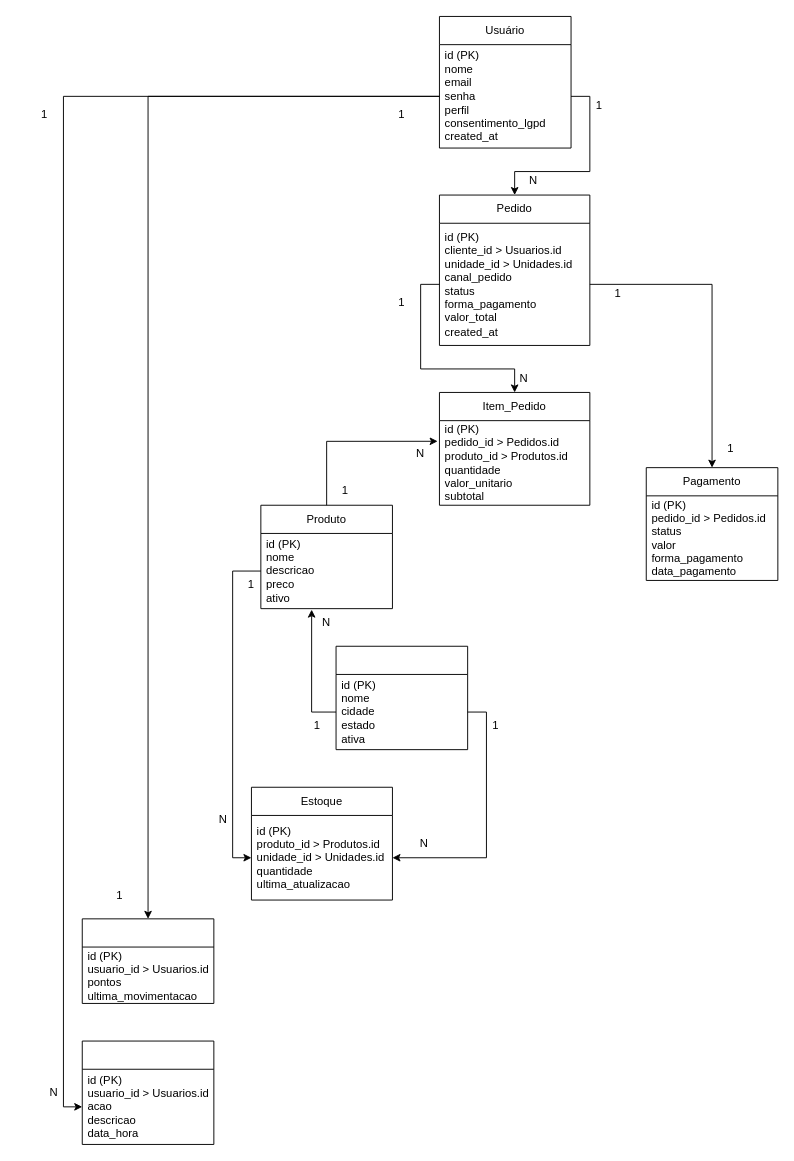
The diagram is 794 pixels wide and 1161 high, and some of its shapes have lost their labels. The box of each missing label's shape, as (x1, y1, x2, y2) in pixels:
Auditoria: (81, 1040, 214, 1144)
Fidelidade: (81, 918, 214, 1003)
Unidade: (335, 645, 468, 750)
